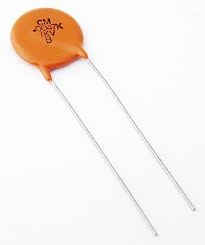ceramic capacitor: (3, 1, 111, 109)
